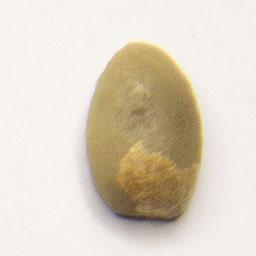longberry: (81, 37, 208, 225)
